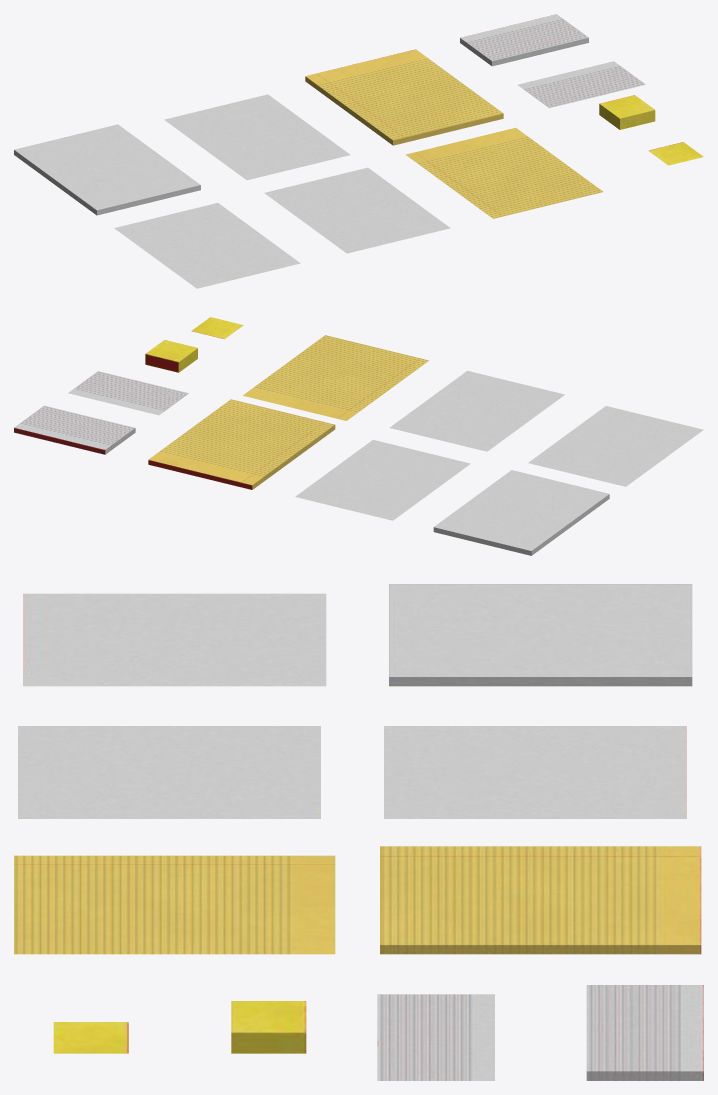
The model's file is notepads.glb.
The picture shows the model from 3 angles, top to bottom: view 1: azimuth 30°, elevation 25°; view 2: azimuth 150°, elevation 25°; view 3: azimuth 270°, elevation 25°; orthographic projection. The views are drawn at different scales.
Parts seen in each view (by area): view 1: office_notepads_yellow_sheet; view 2: office_notepads_yellow_sheet; view 3: office_notepads_yellow_sheet.
Boxes of the visible parts, x1,y1,x2,y2 form: office_notepads_yellow_sheet: (14, 14, 703, 288); office_notepads_yellow_sheet: (14, 317, 703, 555); office_notepads_yellow_sheet: (14, 584, 703, 1080).
Bounding box in the file's own units: 1.1 × 0.022 × 0.6598.
1 material, 1 textured.
